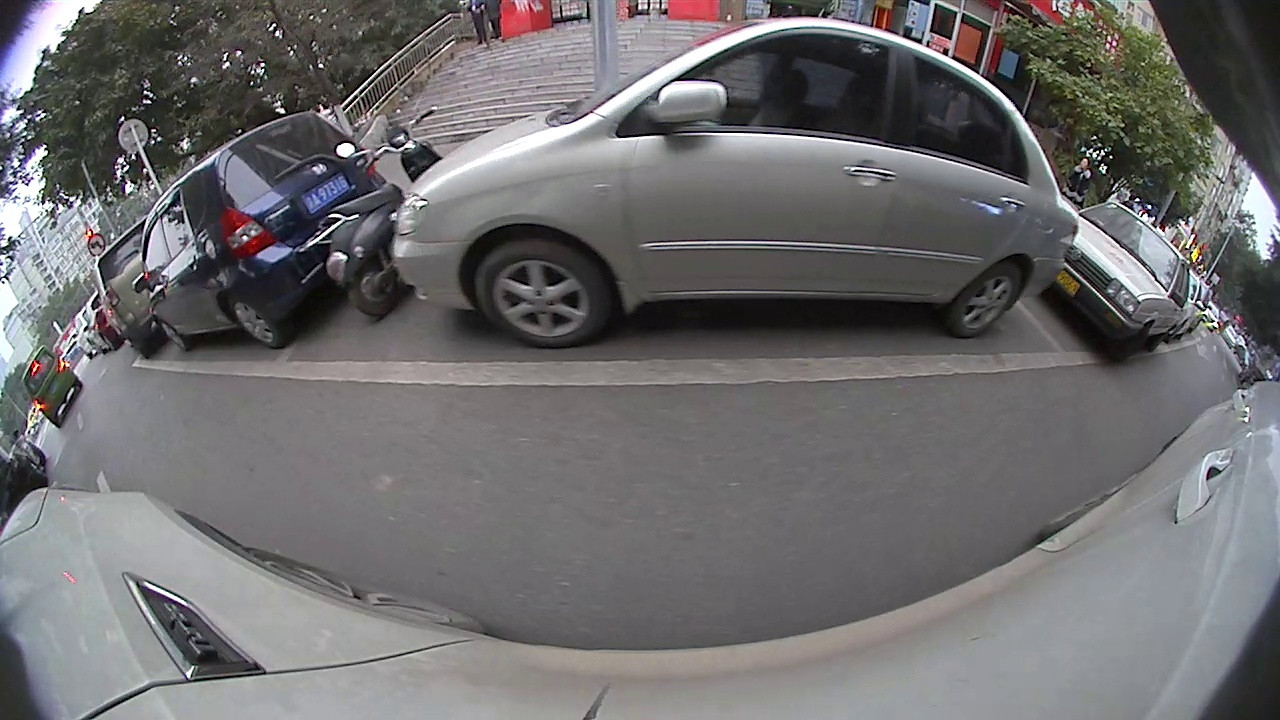car: (387, 14, 1080, 355), (129, 106, 387, 355), (1048, 195, 1198, 362), (91, 211, 168, 365), (18, 342, 88, 433)
front: (475, 243, 610, 347), (1114, 319, 1156, 362), (154, 318, 195, 352)
rear: (953, 260, 1027, 330), (339, 251, 403, 317), (222, 290, 289, 345)
rider: (294, 99, 450, 326)
